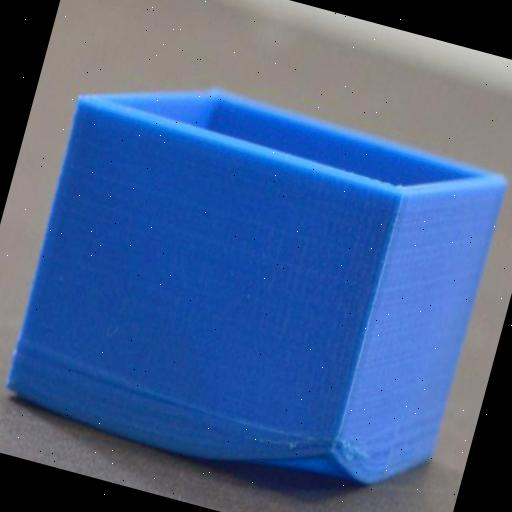cracks: (196, 400, 383, 509)
